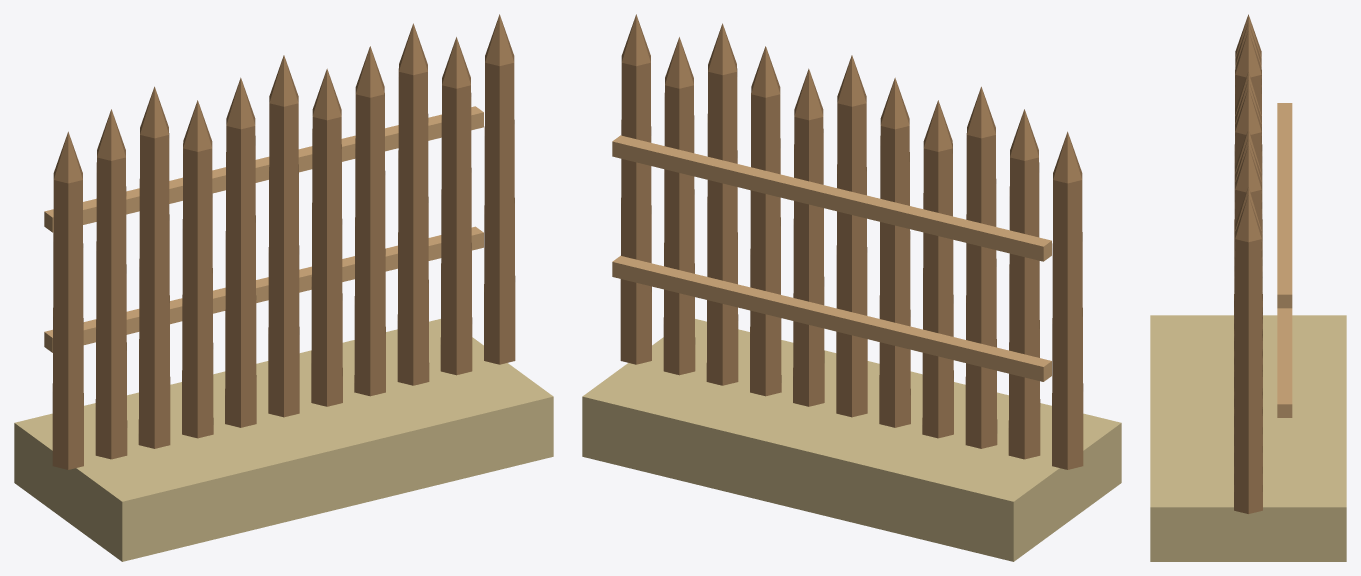
The model's file is camp-palisade-3-m.glb.
The picture shows the model from 3 angles, left to right: view 1: azimuth 30°, elevation 25°; view 2: azimuth 150°, elevation 25°; view 3: azimuth 270°, elevation 25°; orthographic projection. The views are drawn at different scales.
Parts seen in each view (by area): view 1: camp-palisade-straight; view 2: camp-palisade-straight; view 3: camp-palisade-straight.
Boxes of the visible parts, box(x1,y1,x2,y2) form: camp-palisade-straight: box(14, 14, 553, 561); camp-palisade-straight: box(582, 14, 1121, 561); camp-palisade-straight: box(1150, 14, 1346, 561).
Bounding box in the file's own units: 3.22 × 2.76 × 1.3.
